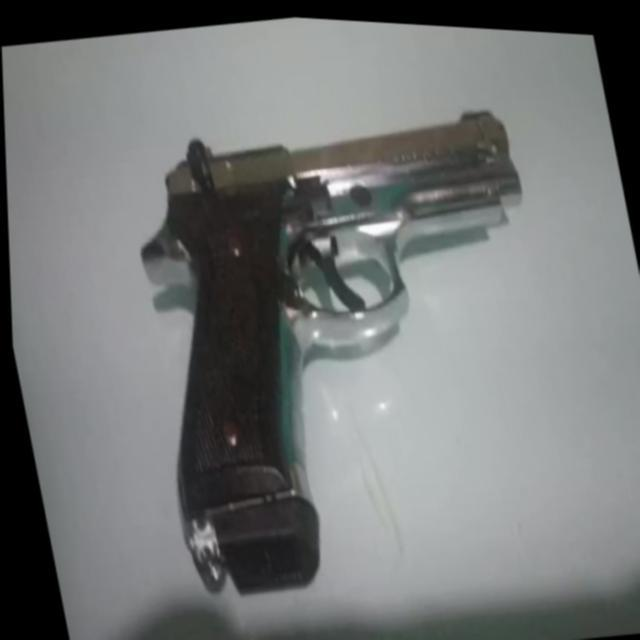weapon: (104, 78, 592, 617)
